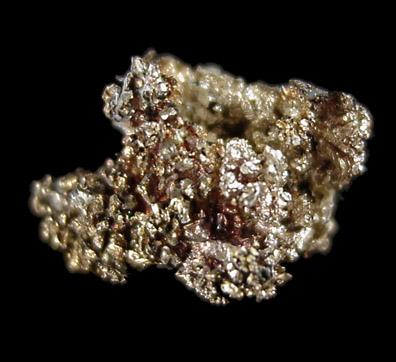silver: (29, 49, 373, 306)
